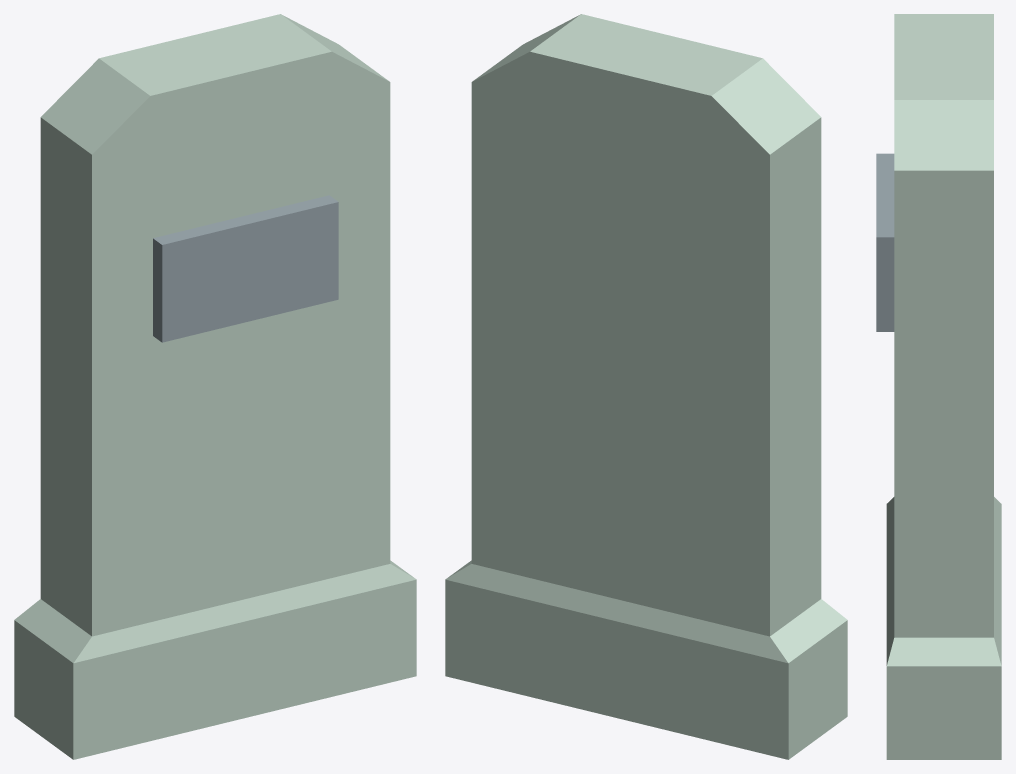
Rendered from Gravestone.obj.
3 renders of one model, left to right at view 1: azimuth 30°, elevation 25°; view 2: azimuth 150°, elevation 25°; view 3: azimuth 270°, elevation 25°, orthographic. The views are drawn at different scales.
Parts seen in each view (by area): view 1: Cube.001_Cube.002; view 2: Cube.001_Cube.002; view 3: Cube.001_Cube.002.
Part boxes in pixels (x1,y1,x2,y2): Cube.001_Cube.002: (14,14,416,759); Cube.001_Cube.002: (445,14,847,759); Cube.001_Cube.002: (876,14,1001,759).
Bounding box in the file's own units: 2.3 × 4.11 × 0.7497.
